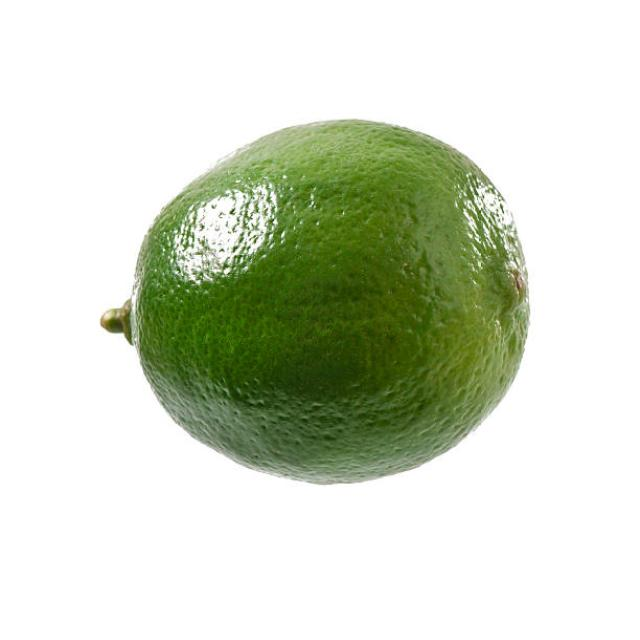Unripe: (130, 114, 532, 486)
